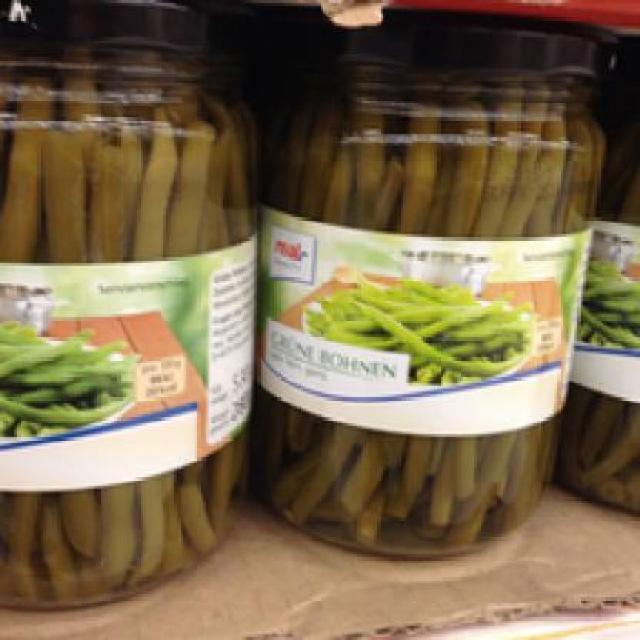Beans: (268, 0, 612, 580), (0, 1, 255, 615)
